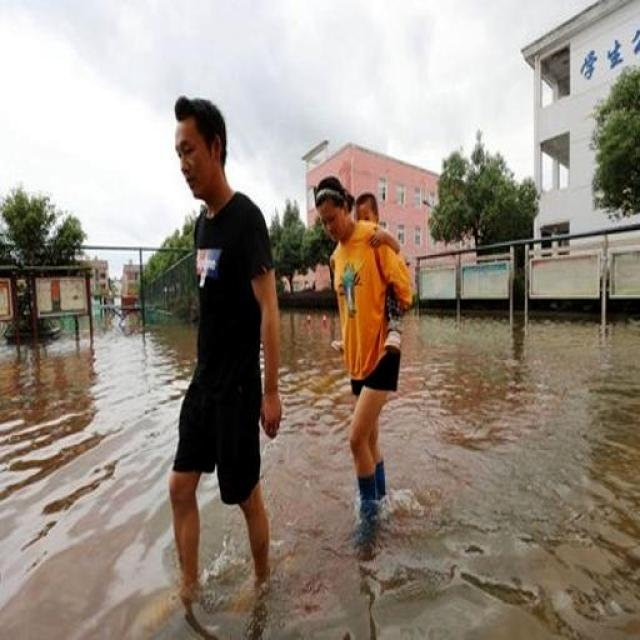civilian: (138, 79, 284, 626), (300, 160, 415, 566), (331, 172, 431, 379)
